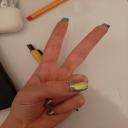PeaceSign: (7, 16, 112, 127)
